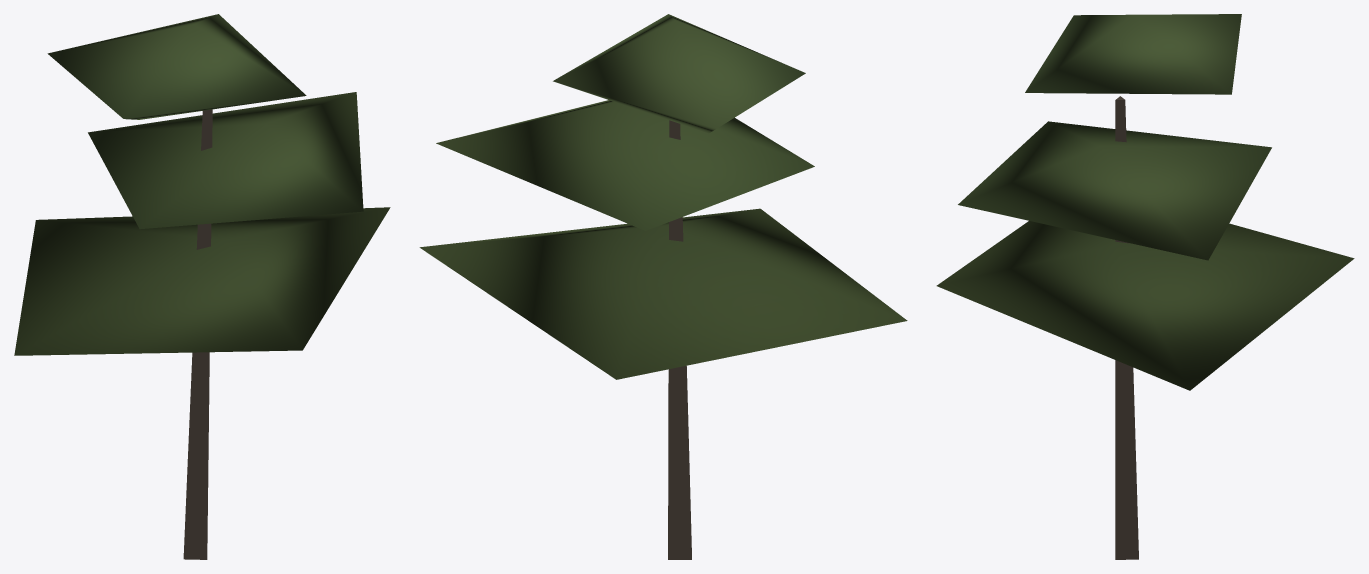
The model's file is horizontal_tiered_lod1.glb.
The picture shows the model from 3 angles, left to right: view 1: azimuth 30°, elevation 25°; view 2: azimuth 150°, elevation 25°; view 3: azimuth 270°, elevation 25°; orthographic projection. The views are drawn at different scales.
Parts seen in each view (by area): view 1: horizontal_tiered_LOD1; view 2: horizontal_tiered_LOD1; view 3: horizontal_tiered_LOD1.
Boxes of the visible parts, x1=… form: horizontal_tiered_LOD1: x1=14, y1=14, x2=390, y2=559; horizontal_tiered_LOD1: x1=419, y1=14, x2=907, y2=559; horizontal_tiered_LOD1: x1=936, y1=14, x2=1354, y2=559.
Size of the model in its own units: 7.81 by 9.24 by 6.45.
